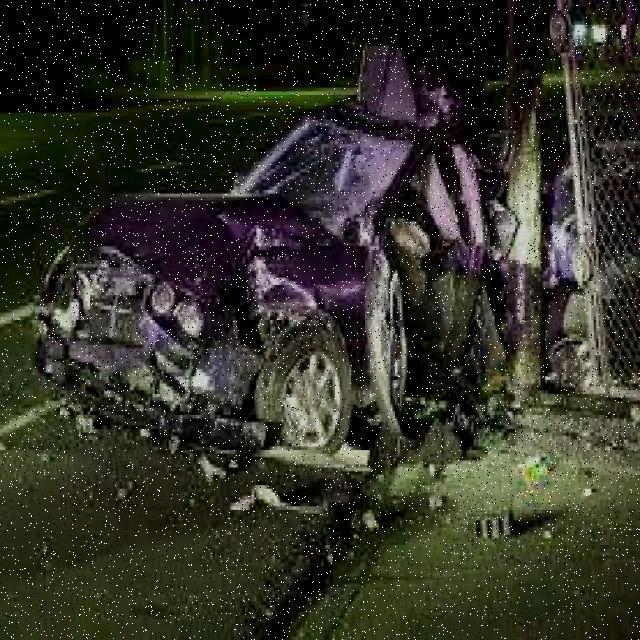car damage: (35, 133, 513, 426)
